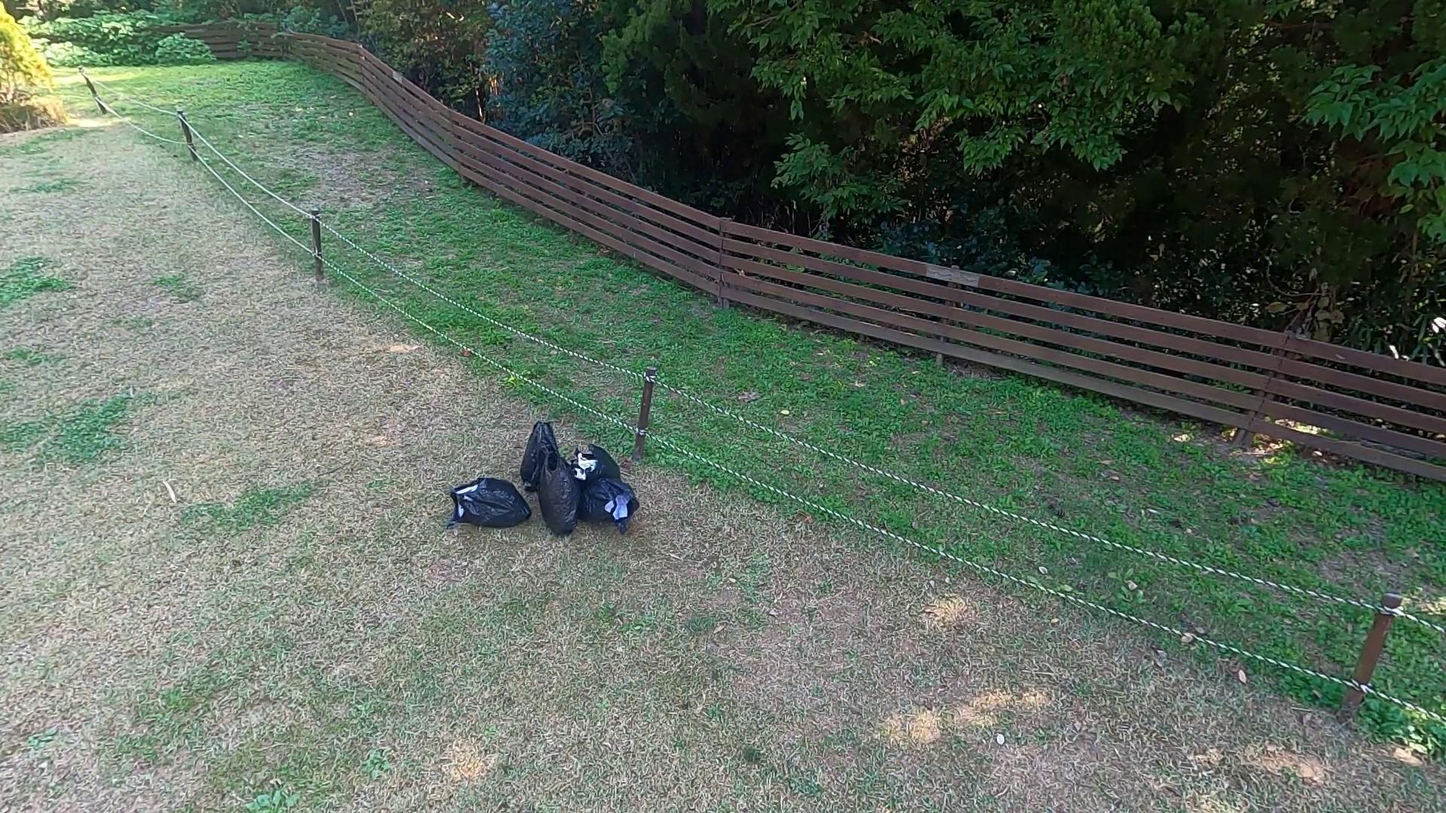trash: (446, 475, 534, 531), (567, 442, 625, 516), (536, 449, 583, 539), (579, 475, 643, 534), (518, 420, 564, 495)
